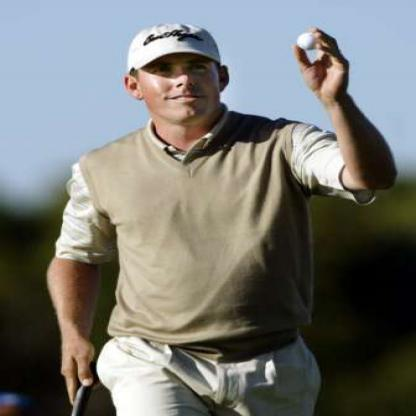face: (137, 25, 224, 126)
